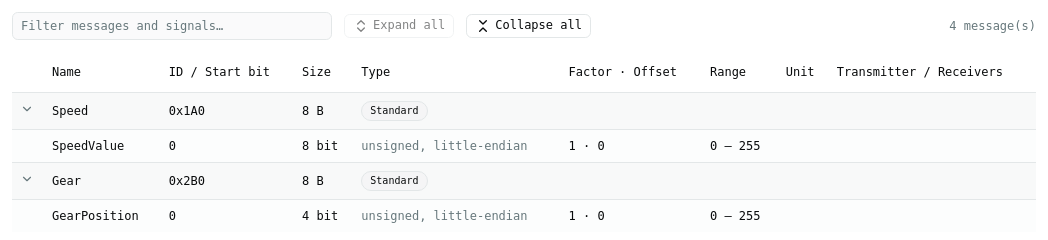
Test: DbcTable expand and collapse all › leaves the per-row expanders working afterwards
This screenshot has width=1048, height=240.
Click the button "Collapse all" at (529, 26), box [466, 14, 591, 38]
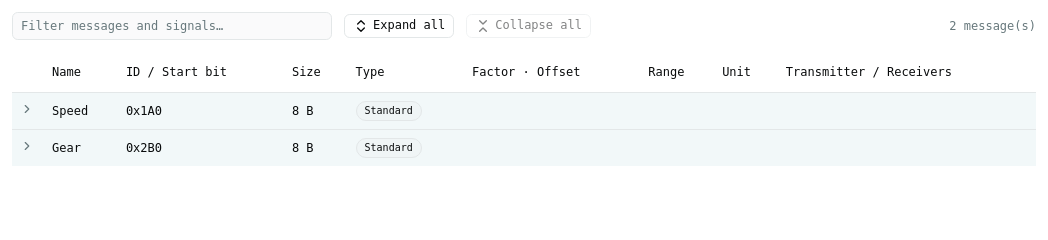
Click the button named "Expand row" next to "Speed" at (27, 108), box [20, 102, 34, 116]
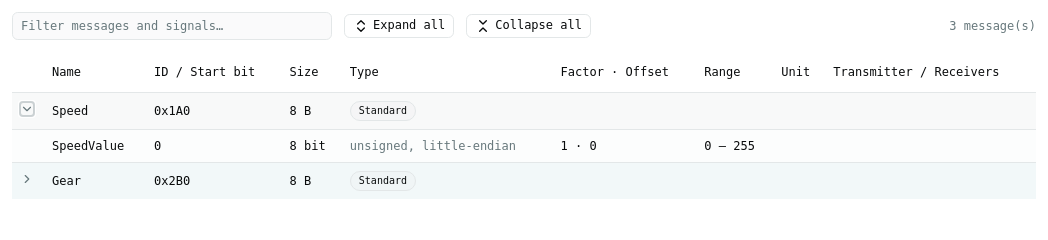
Expected: the text "GearPosition" is not shown
Now the text "SpeedValue" is shown, box [44, 129, 146, 162]
